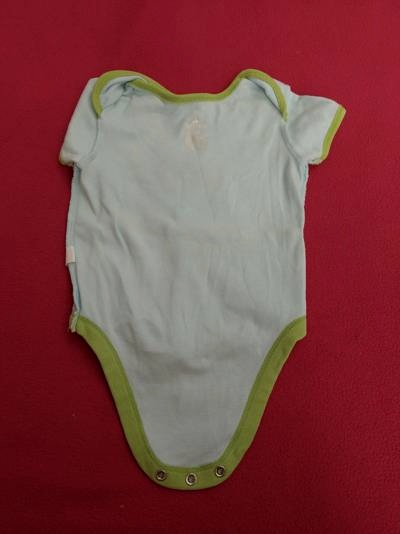Body: (53, 41, 366, 500)
